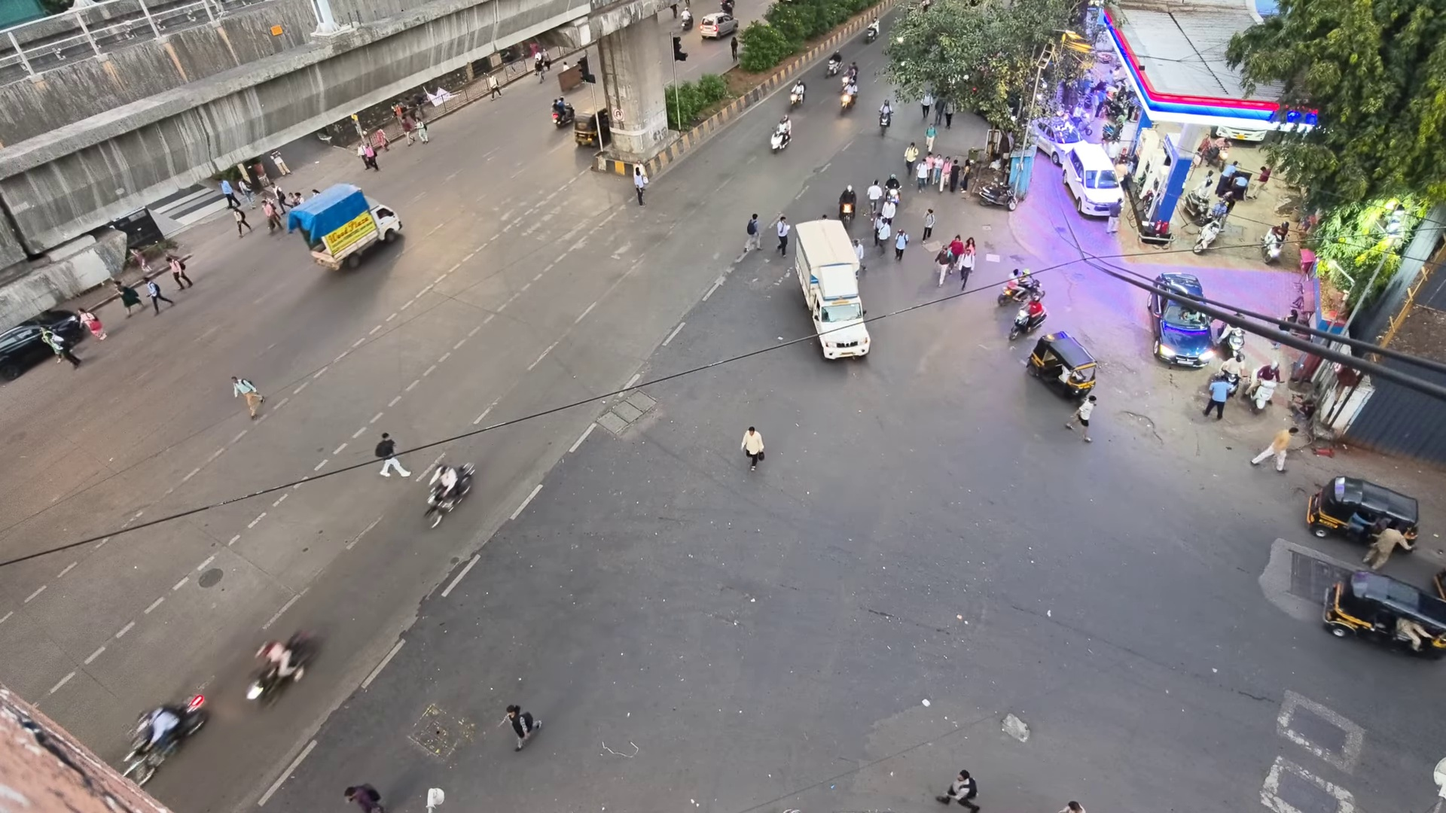driving: (1149, 273, 1216, 367)
walking: (1065, 394, 1097, 804), (1363, 527, 1412, 570), (1252, 426, 1298, 471), (936, 770, 978, 812), (507, 705, 541, 751), (41, 328, 81, 367), (374, 433, 409, 477), (232, 377, 263, 419), (344, 784, 384, 812), (112, 280, 142, 317), (1203, 379, 1230, 419), (956, 237, 976, 289), (741, 426, 764, 470), (145, 279, 174, 313), (167, 254, 193, 289), (78, 309, 106, 340), (262, 198, 282, 233), (743, 213, 760, 252), (935, 247, 952, 286), (130, 248, 152, 276), (775, 214, 790, 255), (633, 165, 648, 206), (915, 154, 932, 190), (866, 179, 883, 214), (273, 184, 293, 213), (936, 157, 952, 192), (232, 208, 252, 236), (875, 218, 891, 252), (221, 179, 239, 208), (959, 159, 974, 193), (270, 150, 290, 175), (1106, 200, 1121, 233), (237, 178, 254, 207), (363, 143, 379, 171), (904, 142, 918, 173), (948, 162, 962, 193), (930, 159, 947, 184), (920, 91, 934, 120), (922, 209, 935, 240), (853, 239, 865, 272), (940, 100, 954, 128), (401, 115, 414, 145), (895, 230, 908, 260), (880, 199, 896, 222), (373, 128, 389, 151), (415, 117, 429, 142), (487, 74, 501, 99), (926, 122, 937, 153), (1060, 800, 1085, 812), (933, 99, 944, 125), (730, 34, 739, 61)
